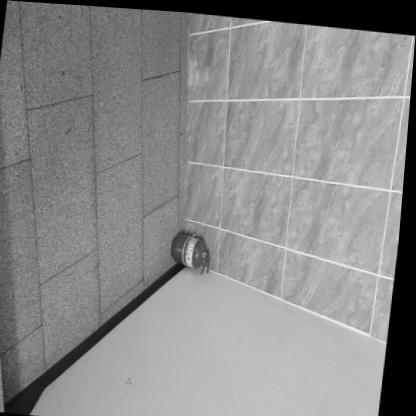FE: (174, 231, 216, 266)
